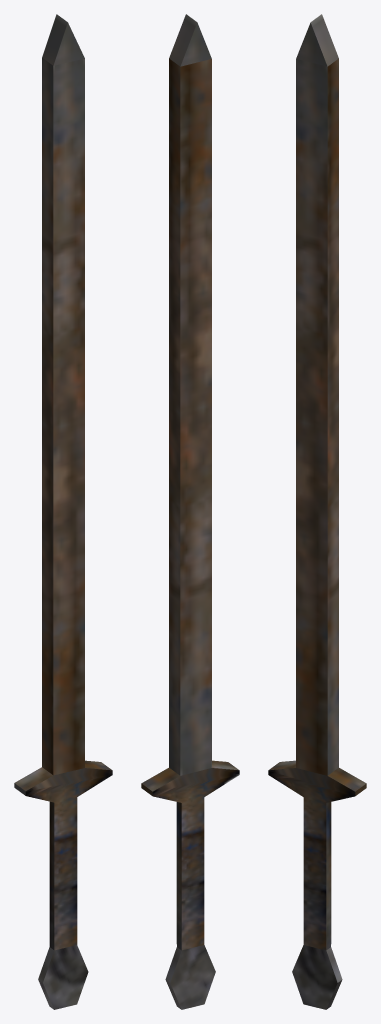
Rendered from f_sward.fbx.
3 renders of one model, left to right at view 1: azimuth 30°, elevation 25°; view 2: azimuth 210°, elevation 25°; view 3: azimuth 330°, elevation 25°, orthographic.
Parts seen in each view (by area): view 1: Cylinder; view 2: Cylinder; view 3: Cylinder.
Boxes of the visible parts, left/top/right/bottom form: Cylinder: left=14, top=14, right=112, bottom=1009; Cylinder: left=141, top=14, right=239, bottom=1009; Cylinder: left=268, top=14, right=366, bottom=1009.
Size of the model in its own units: 18.69 by 203 by 4.25.
Materials: 1 (1 with a texture image).
